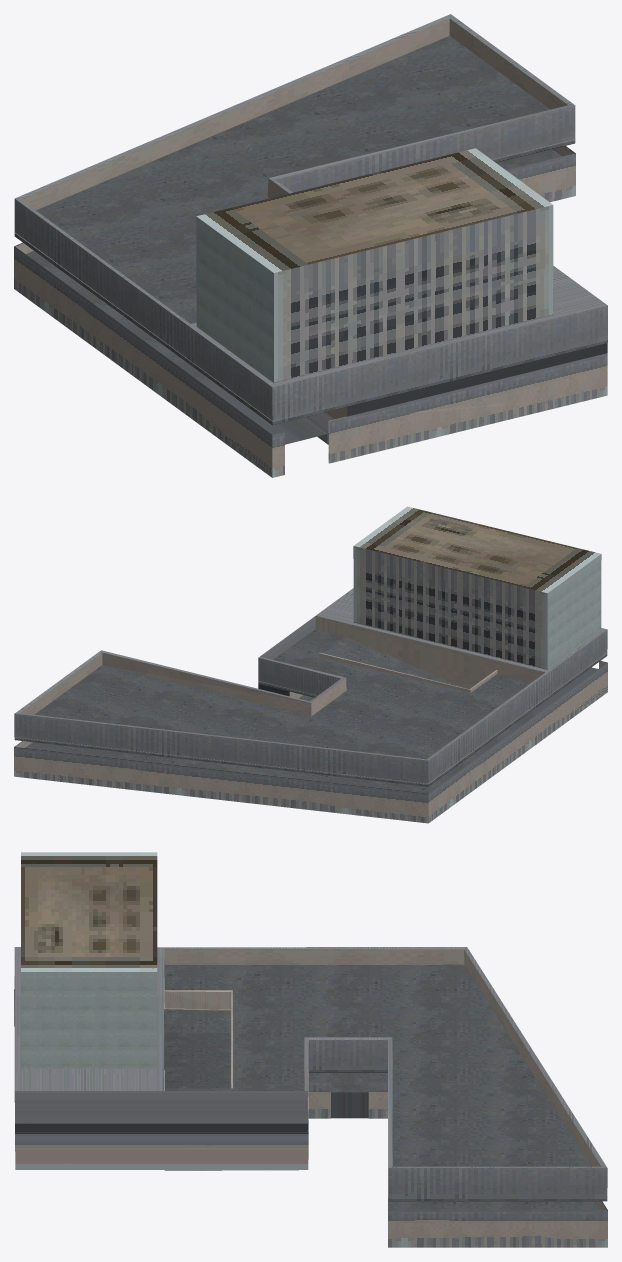
Rendered from lodrthse_vgn01.obj.
The picture shows the model from 3 angles, top to bottom: view 1: azimuth 30°, elevation 25°; view 2: azimuth 150°, elevation 25°; view 3: azimuth 270°, elevation 25°; orthographic projection. The views are drawn at different scales.
Visible parts, largest first — view 1: lodrthse_vgn01; view 2: lodrthse_vgn01; view 3: lodrthse_vgn01.
Boxes of the visible parts, x1,y1,x2,y2 form: lodrthse_vgn01: (14, 14, 607, 477); lodrthse_vgn01: (14, 506, 607, 823); lodrthse_vgn01: (14, 852, 607, 1247).
Bounding box in the file's own units: 139 × 51.77 × 158.
4 materials, 4 textured.
